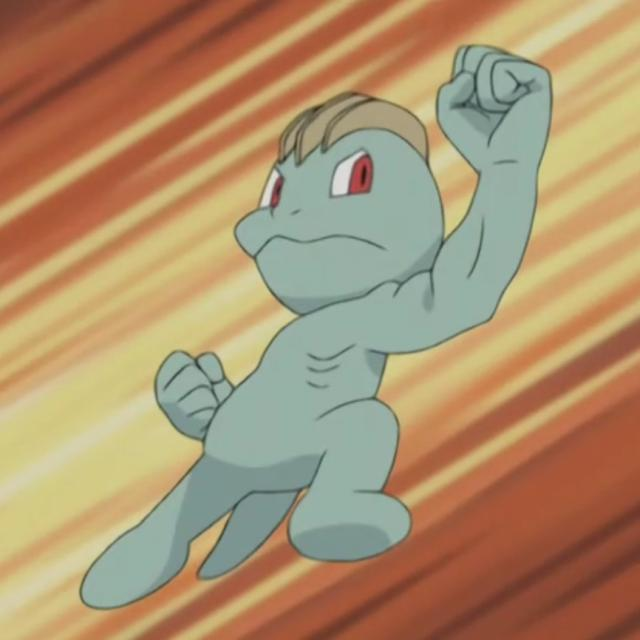Machop: (113, 86, 532, 560)
